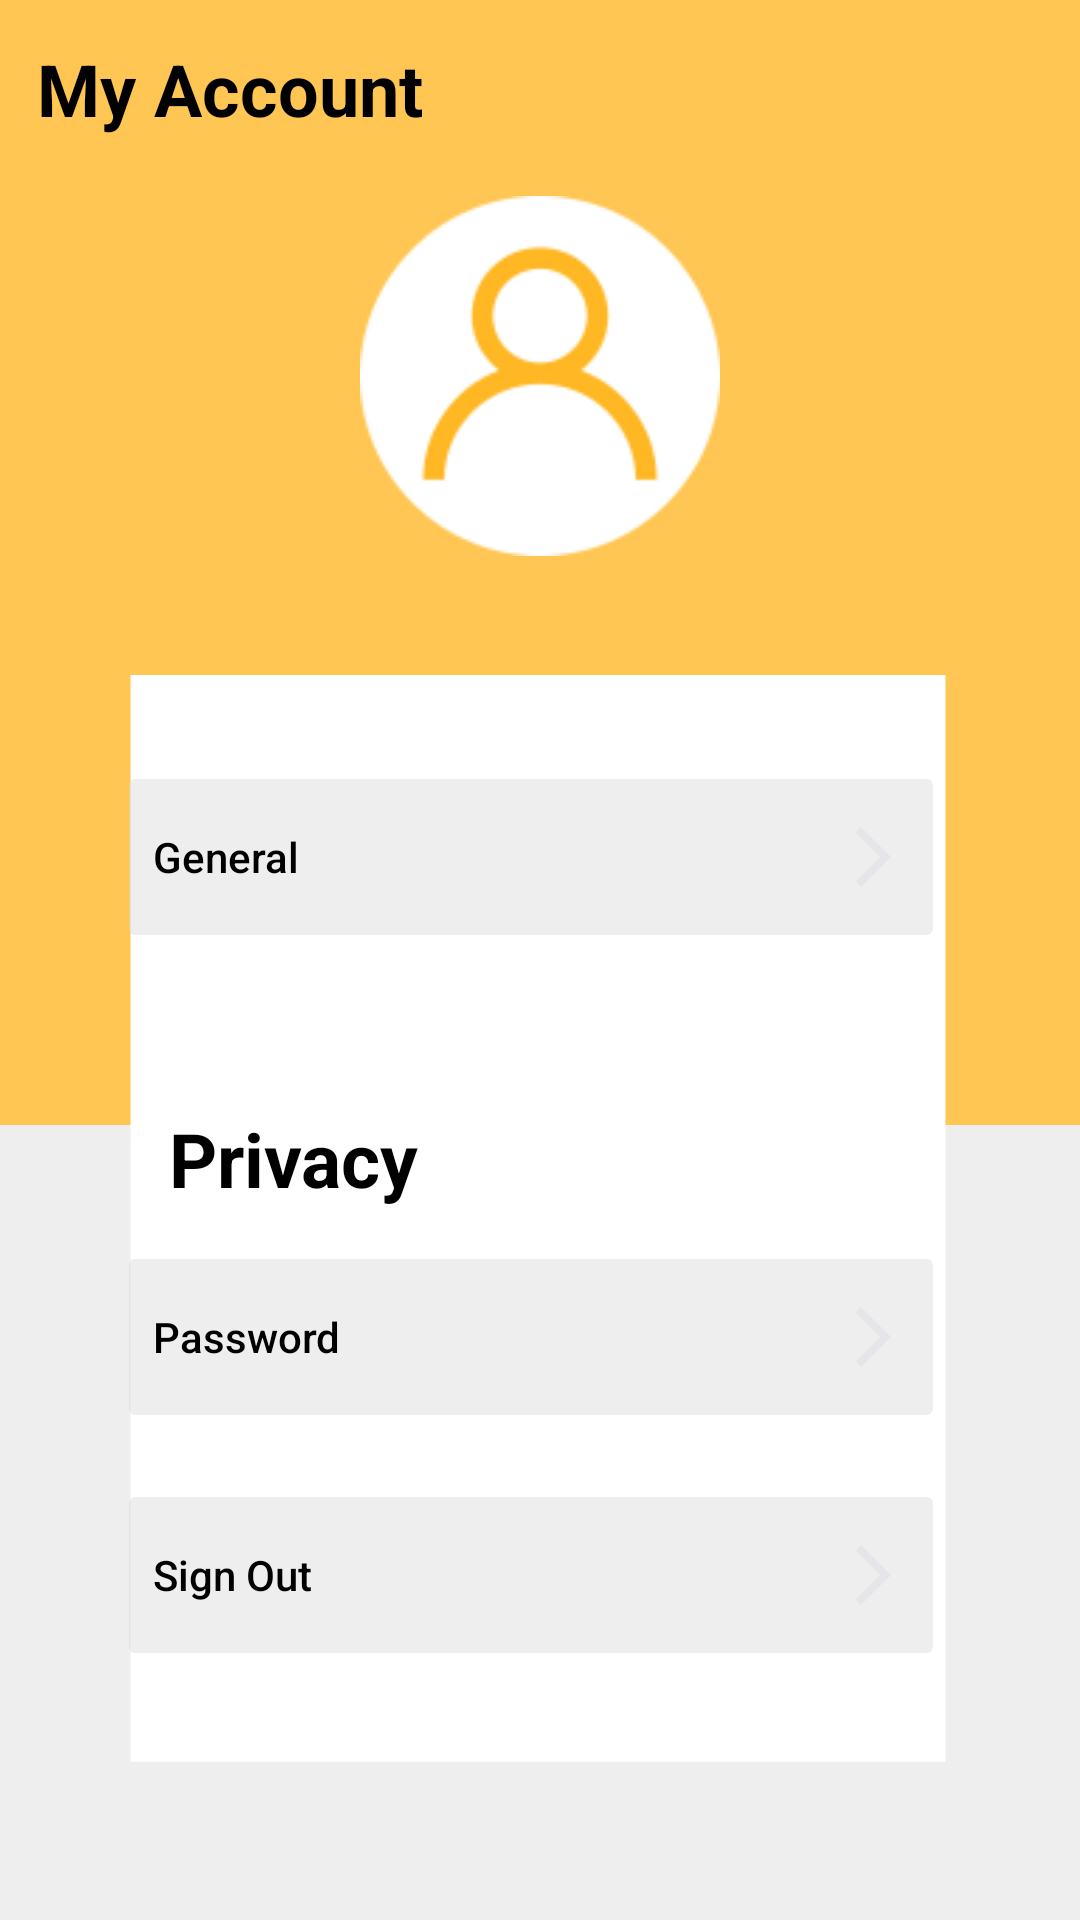

Screen size 1080 x 1920. Icon name, then its center in pixels as (x,y):
user general: (540,376)
